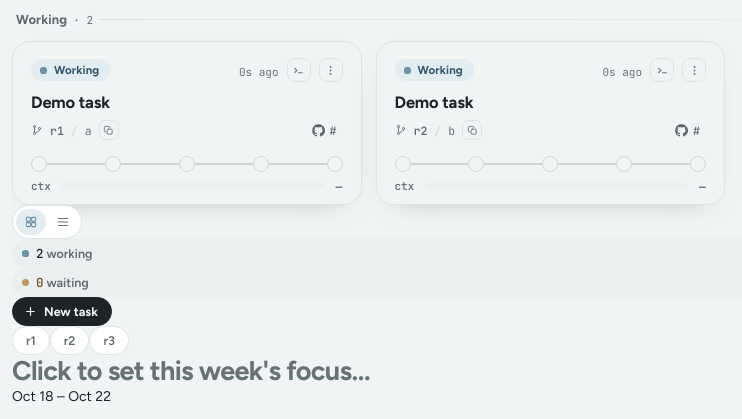
Test: ActiveBoard: project filter › selecting a chip narrows the cards and the reported count; selecting another adds to it
Click the button "r1" at {"x": 31, "y": 341}, box [12,326,50,355]
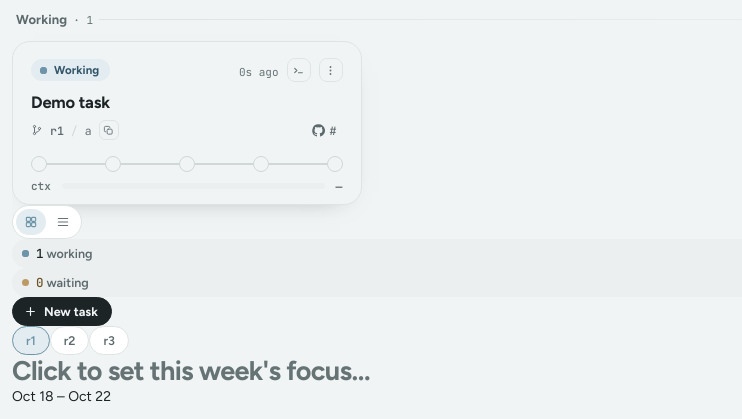
Click the button "r2" at {"x": 70, "y": 341}, box [50,326,90,355]
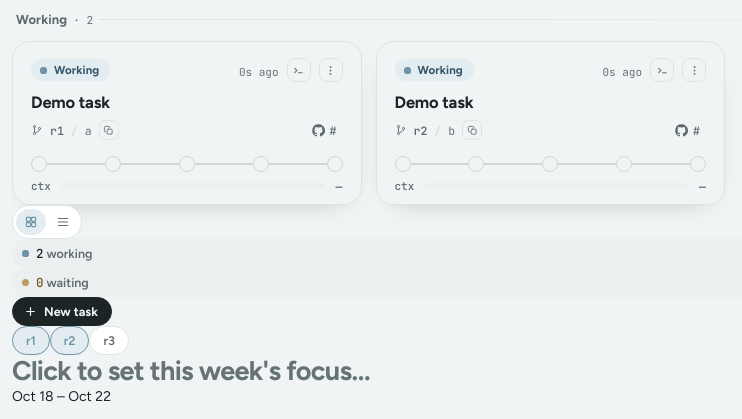
Expected: the number of elements with test id "task-card" is 2, [12,41,362,205]; [376,41,725,205]
